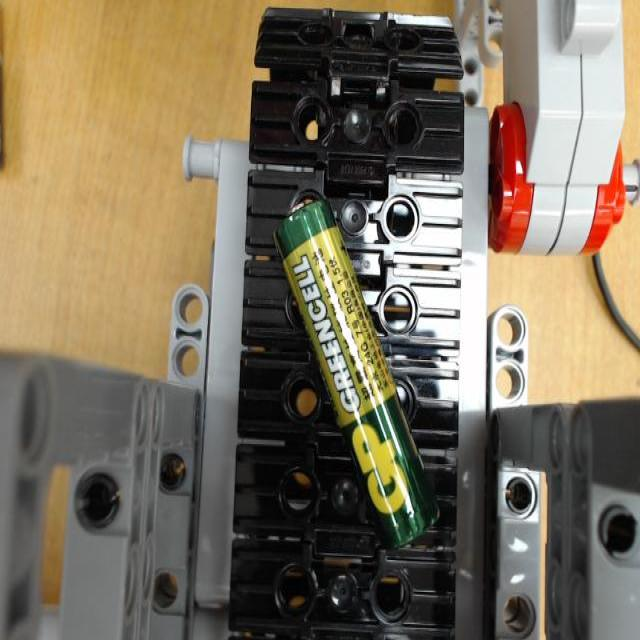AAA: (275, 196, 431, 555)
